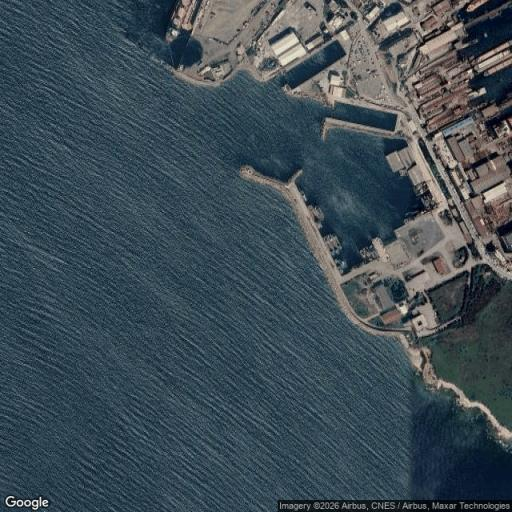ship: (166, 0, 201, 42), (476, 49, 511, 71), (476, 41, 511, 63), (484, 56, 511, 75), (324, 234, 340, 256), (308, 205, 323, 228), (360, 245, 378, 262), (466, 0, 489, 12), (468, 87, 486, 99), (335, 259, 347, 273), (301, 192, 307, 203)
